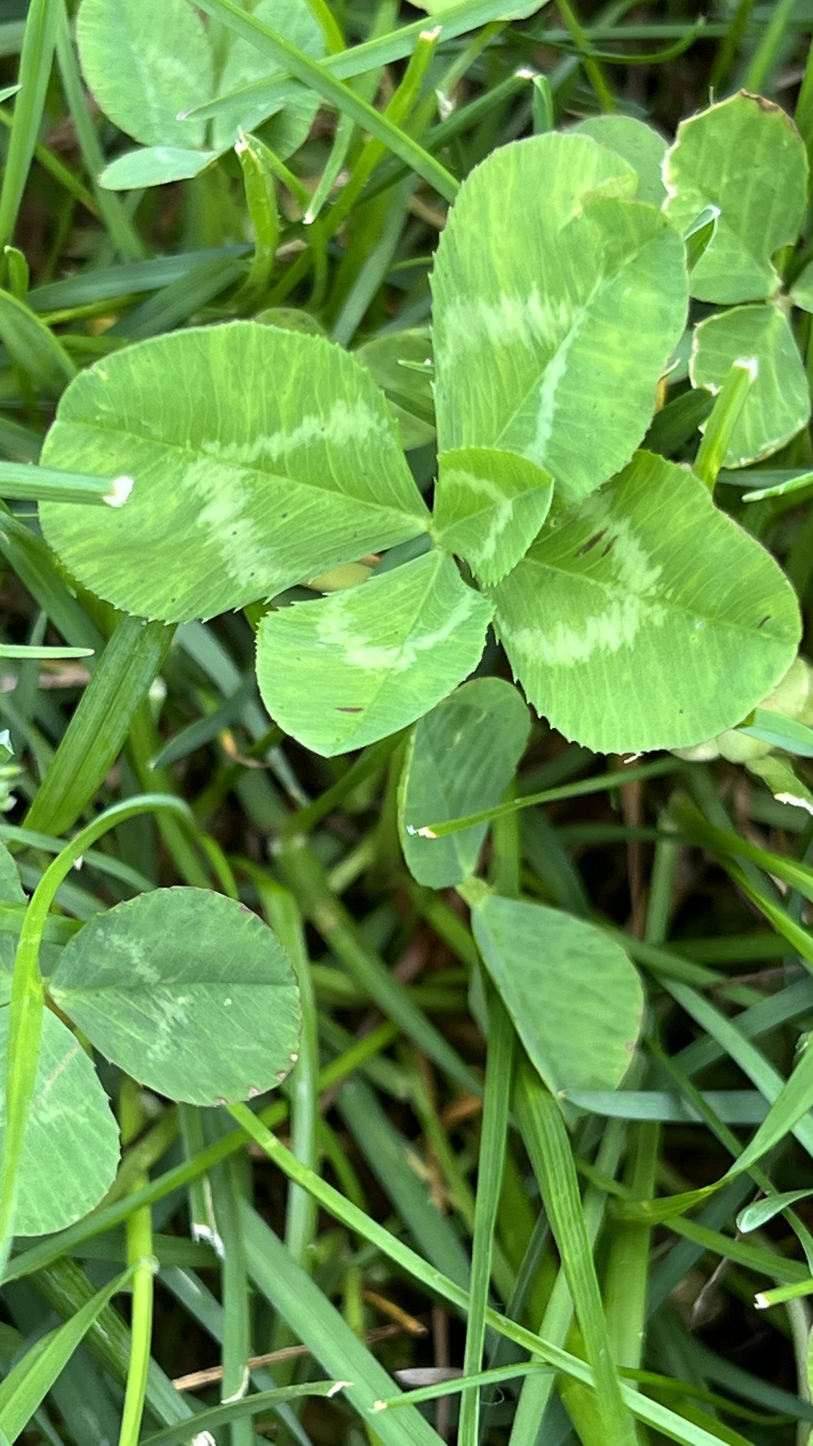5-Leaf-Clovers: (75, 36, 461, 1359)
